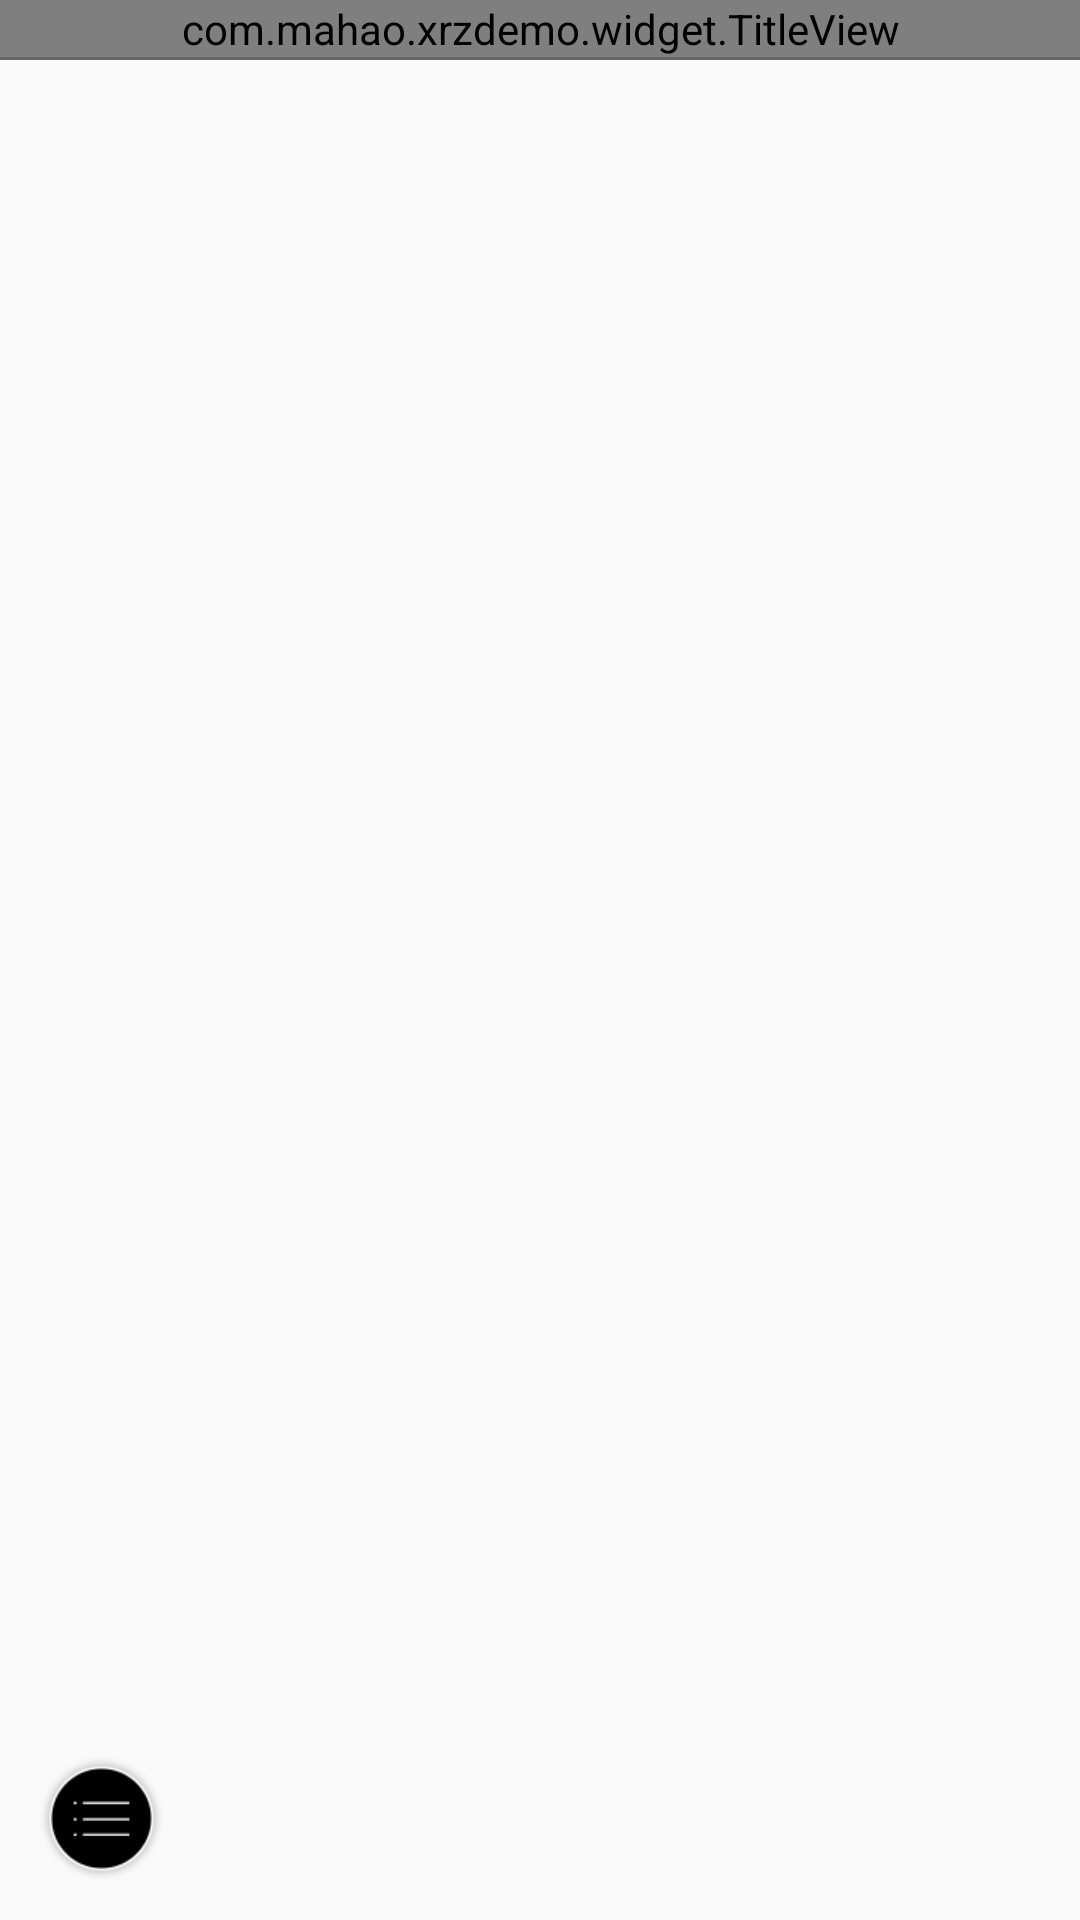

Icon bounding boxes for this 1080px×1920px phone screenshot, format (x1, y1, x2, y2):
list mj: (47, 1764, 156, 1873)
